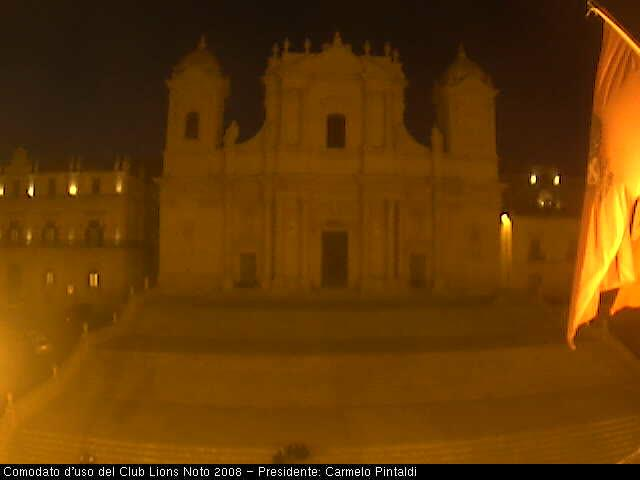person: (287, 440, 299, 462), (273, 447, 286, 466), (300, 442, 312, 462), (87, 453, 98, 465), (77, 453, 87, 464)
